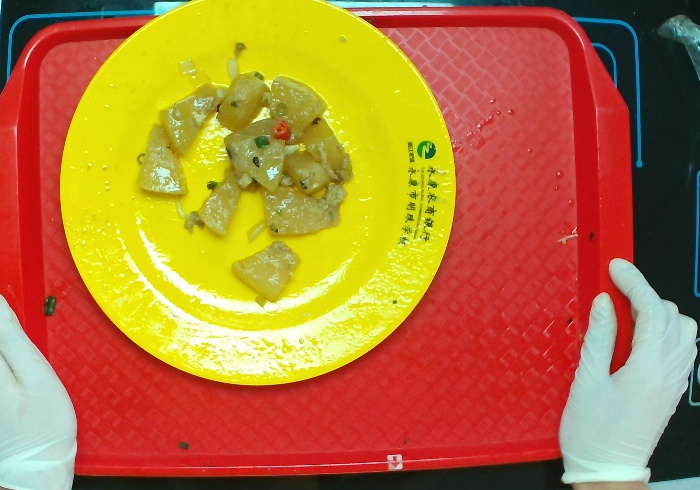YKMZ-Huang_Se_Mian_Pan: (58, 1, 456, 385)
